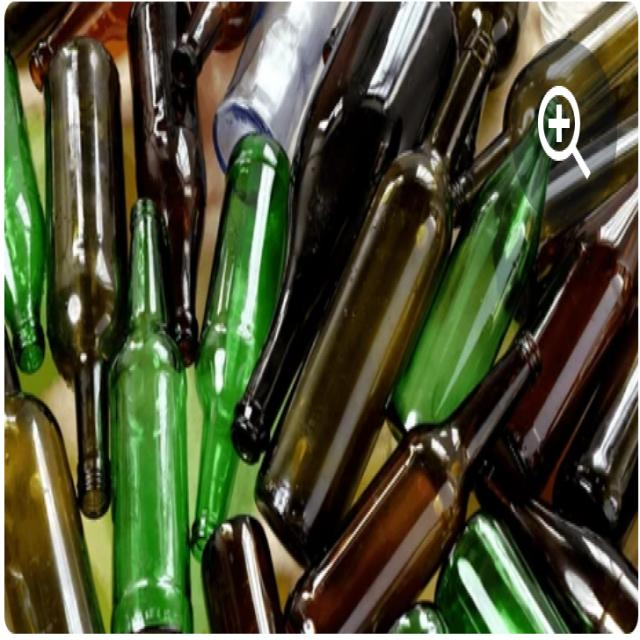Glass: (250, 18, 501, 573), (43, 35, 132, 522), (104, 192, 195, 632), (198, 508, 288, 637)
